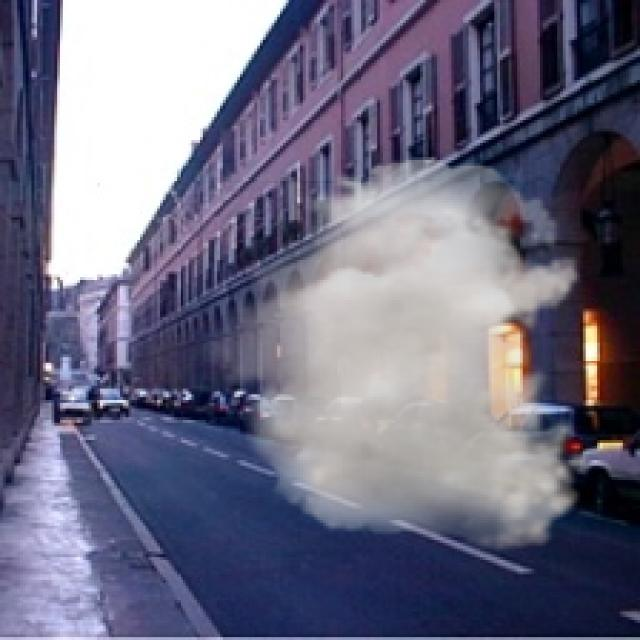smoke: (194, 157, 592, 552)
